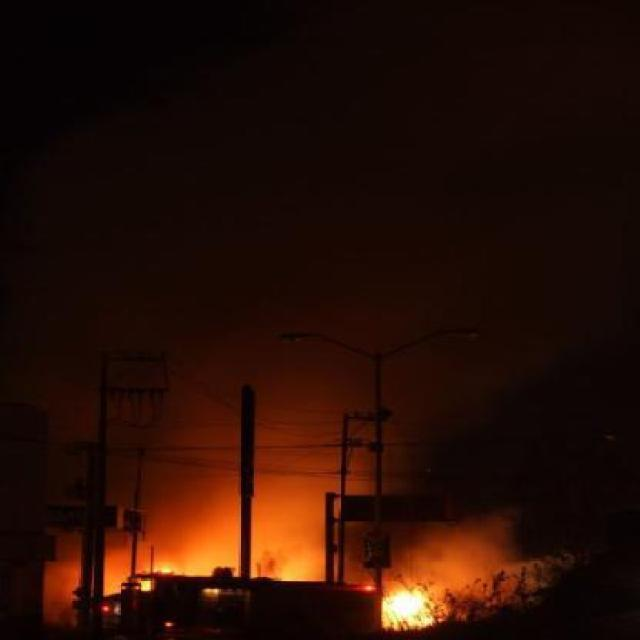Fire: (142, 537, 235, 580), (378, 582, 442, 626), (247, 548, 327, 580)
